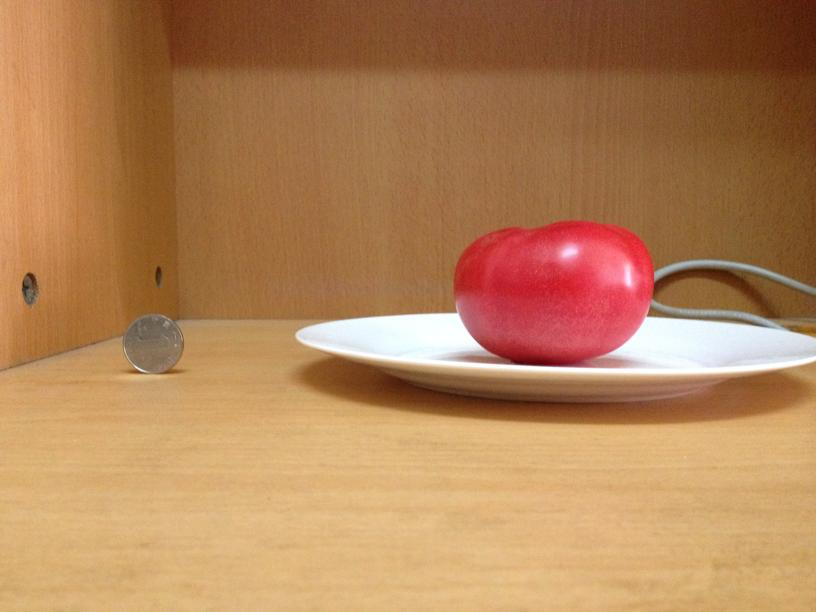coin: (118, 310, 185, 374)
tomato: (440, 219, 656, 367)
